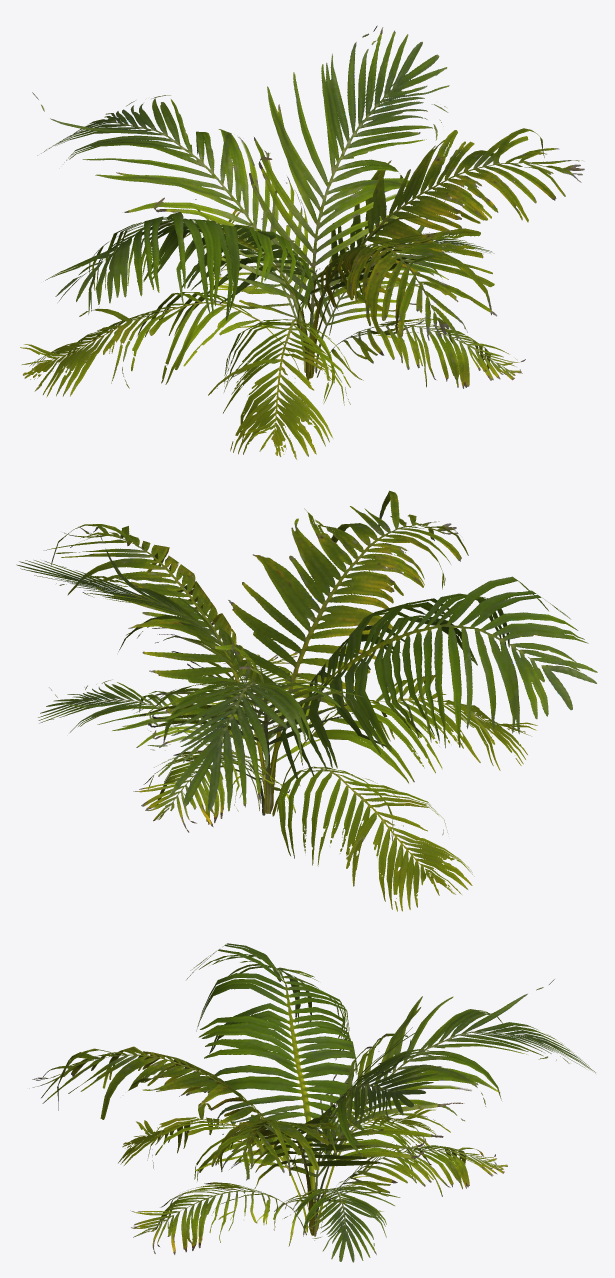
Rendered from tropical_palm.glb.
The picture shows the model from 3 angles, top to bottom: view 1: azimuth 30°, elevation 25°; view 2: azimuth 150°, elevation 25°; view 3: azimuth 270°, elevation 25°; orthographic projection. The views are drawn at different scales.
Parts seen in each view (by area): view 1: Megascans tropical_palm; view 2: Megascans tropical_palm; view 3: Megascans tropical_palm.
Part boxes in pixels (bbox=[...]): Megascans tropical_palm: bbox=[20, 25, 584, 459]; Megascans tropical_palm: bbox=[16, 490, 597, 911]; Megascans tropical_palm: bbox=[29, 943, 595, 1262].
Size of the model in its own units: 3.31 by 1.8 by 3.55.
Materials: 1 (1 with a texture image).
